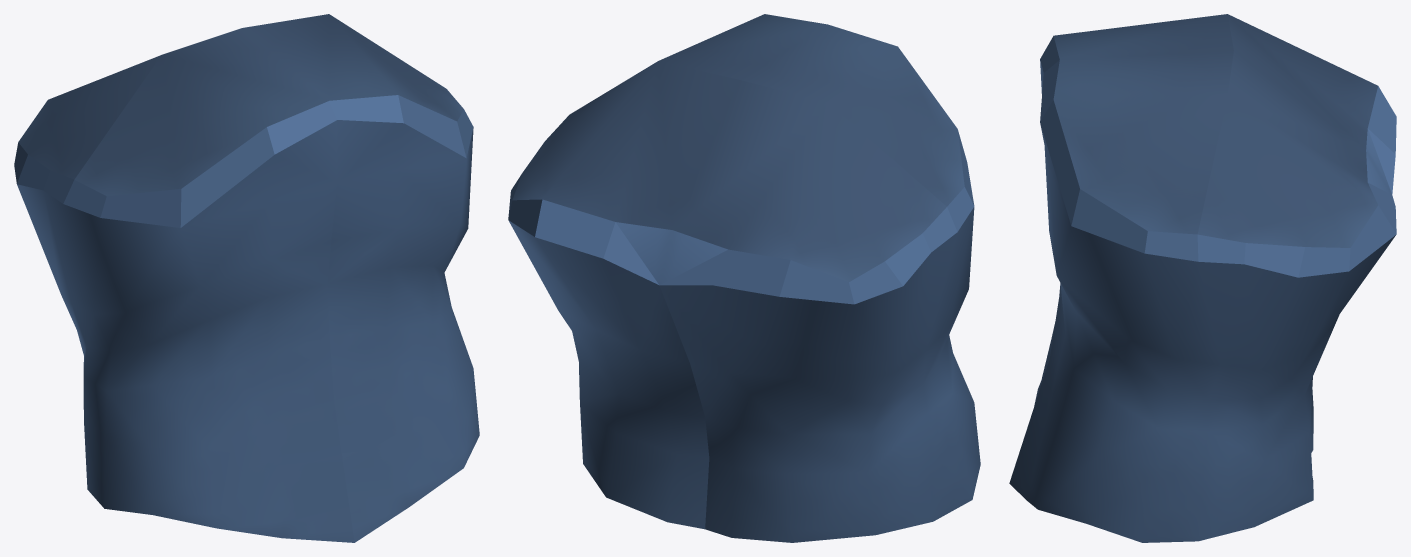
File: Z_Body.001.fbx
The picture shows the model from 3 angles, left to right: view 1: azimuth 30°, elevation 25°; view 2: azimuth 150°, elevation 25°; view 3: azimuth 270°, elevation 25°; orthographic projection.
Parts seen in each view (by area): view 1: Z_Body.001; view 2: Z_Body.001; view 3: Z_Body.001.
Boxes of the visible parts, x1,y1,x2,y2 form: Z_Body.001: [14, 14, 479, 542]; Z_Body.001: [508, 14, 980, 542]; Z_Body.001: [1009, 14, 1396, 542].
Bounding box in the file's own units: 3188 × 3349 × 2716.
